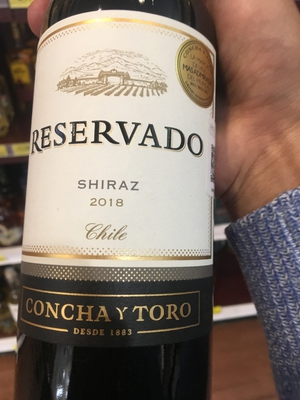reservado shiraz: (20, 16, 215, 400)
